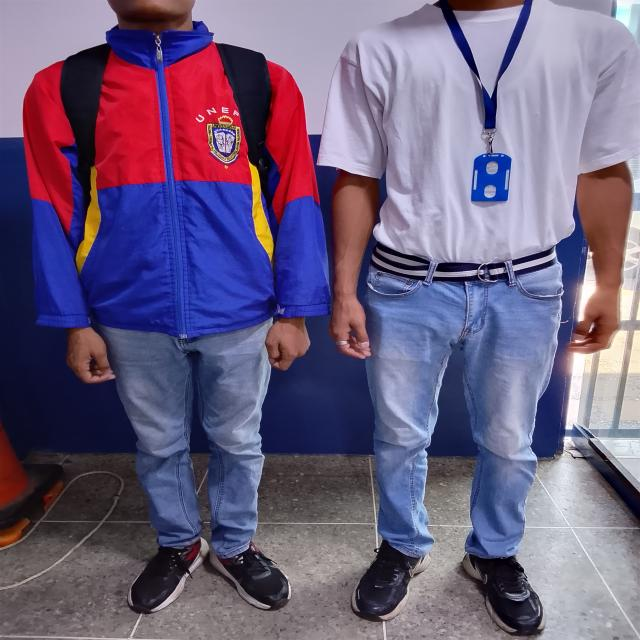carnet: (471, 152, 512, 202)
chaqueta_unefa: (22, 21, 333, 339)
